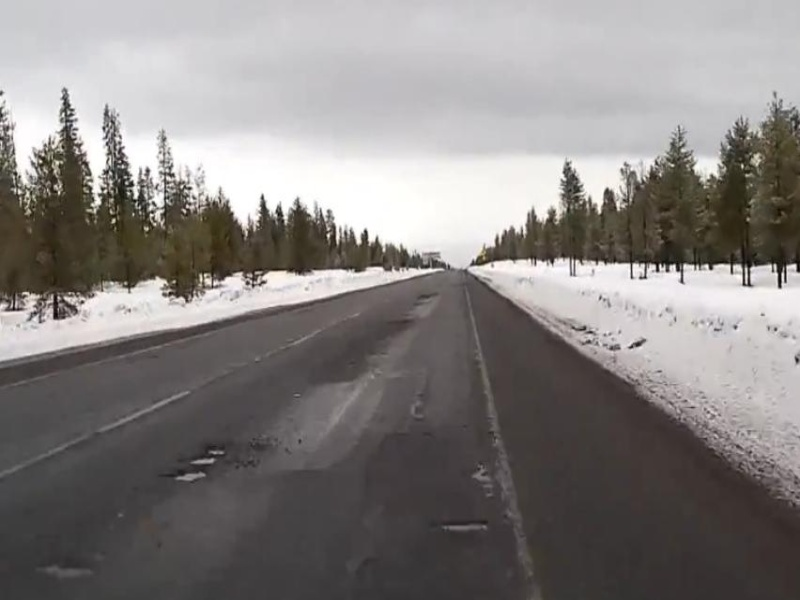pothole: (158, 471, 206, 489), (184, 457, 215, 467)
